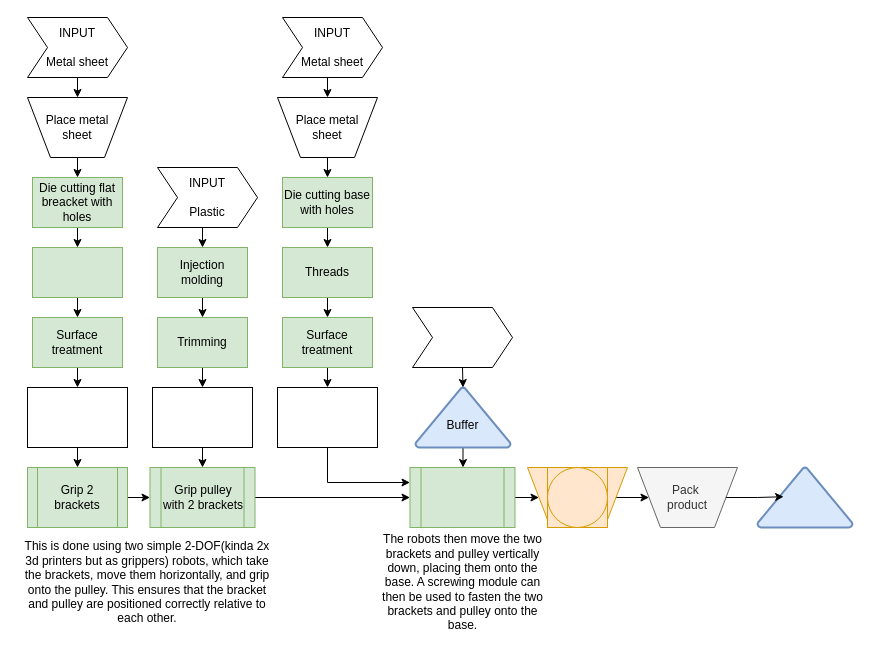
Some shapes in this 870 by 650 pixel diagram are drawn without their labels. The box of each missing label's shape, as (x1, y1, x2, y2) in pixels:
Bend to 90 degree: (32, 246, 122, 298)
Final product: (756, 466, 853, 528)
INPUT Screw: (412, 306, 512, 368)
Inspect: (546, 466, 608, 528)
Place base: (276, 386, 378, 448)
Place bracket: (26, 386, 128, 448)
Place pulley: (152, 386, 252, 448)
Screw brackets to base: (409, 466, 515, 528)
